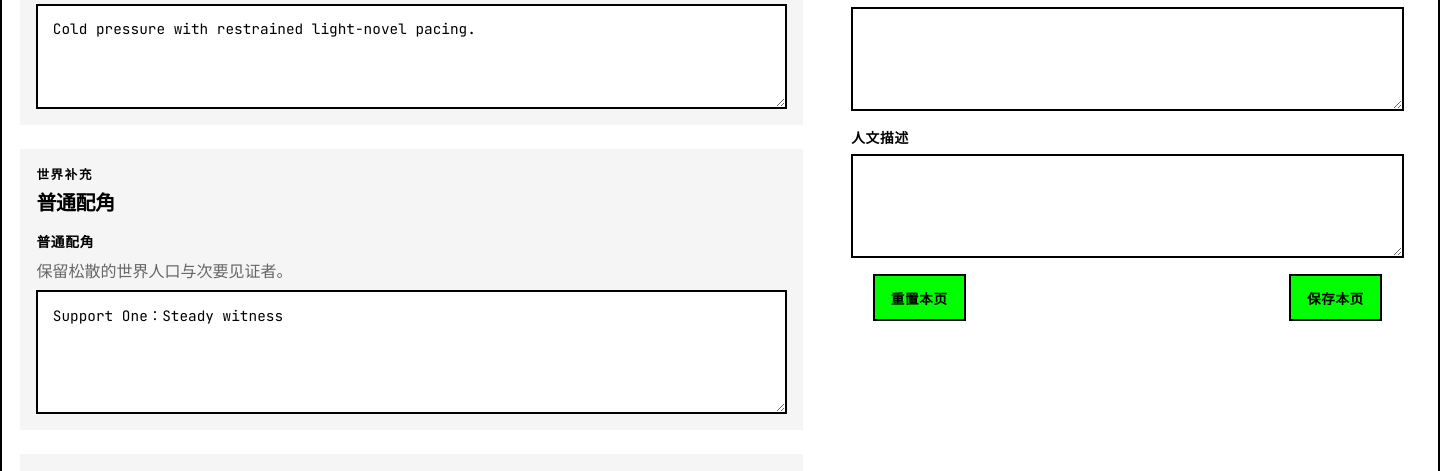
Test case: EditWorkbench › shows the shared save-path reachability failure above the current page content when the helper cannot connect
(page scrolled)
Step 1. Click the button "保存本页" → (1335, 298), box left=1289, top=274, right=1382, bottom=321
(page scrolled)
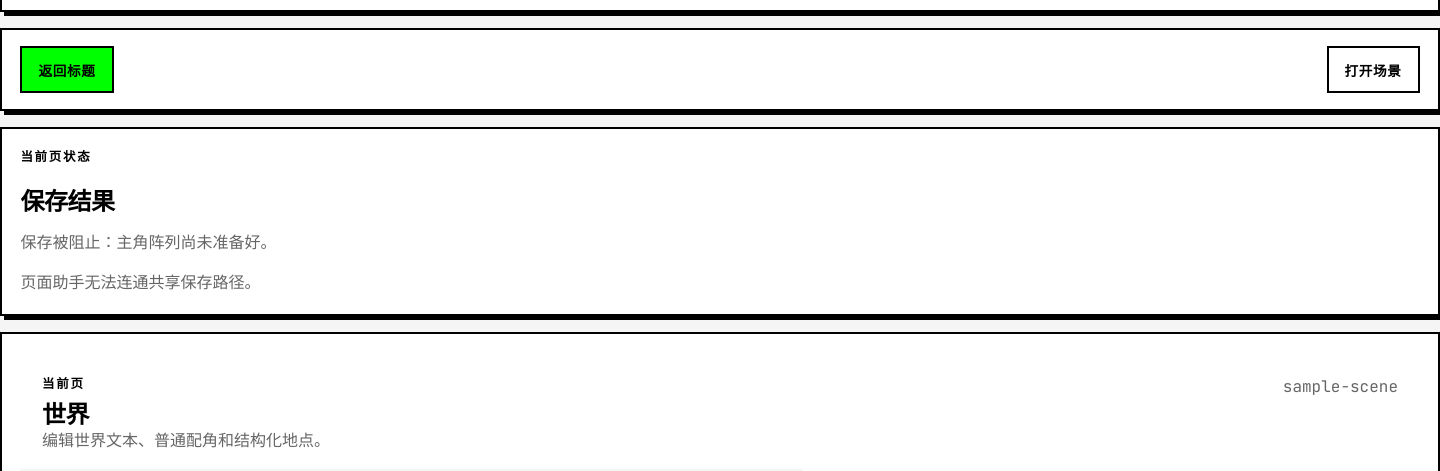
Now the text "保存被阻止：主角阵列尚未准备好。" is shown, box left=20, top=232, right=276, bottom=253
Now the text "页面助手无法连通共享保存路径。" is shown, box left=20, top=272, right=260, bottom=293
